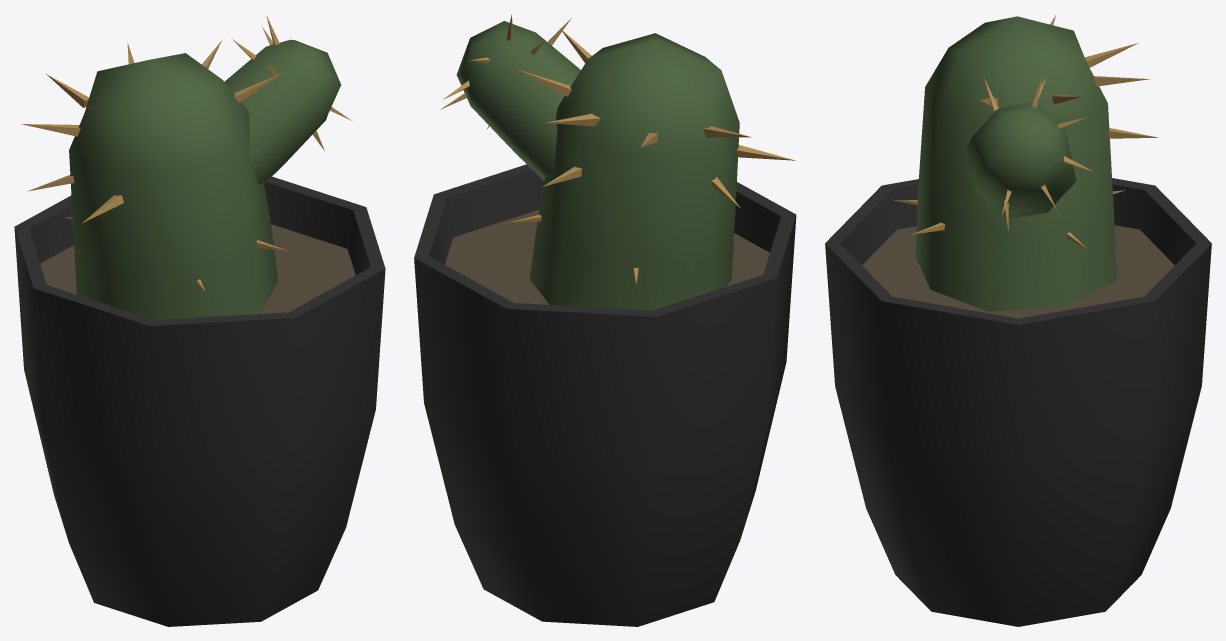
File: interior_prop.plant_pot.home_houseplant_2_01.glb
3 views of the same model, side by side, from view 1: azimuth 30°, elevation 25°; view 2: azimuth 150°, elevation 25°; view 3: azimuth 270°, elevation 25° (orthographic). The views are drawn at different scales.
Visible parts, largest first — view 1: Black, DarkGreen, Brown, LightOrange; view 2: Black, DarkGreen, Brown, LightOrange; view 3: Black, DarkGreen, Brown, LightOrange.
Part boxes in pixels (x1=…): Black: x1=14, y1=176, x2=385, y2=626; DarkGreen: x1=69, y1=39, x2=340, y2=319; Brown: x1=40, y1=224, x2=355, y2=314; LightOrange: x1=21, y1=15, x2=351, y2=291; Black: x1=414, y1=164, x2=796, y2=626; DarkGreen: x1=456, y1=21, x2=739, y2=310; Brown: x1=445, y1=210, x2=769, y2=304; LightOrange: x1=440, y1=14, x2=795, y2=284; Black: x1=825, y1=178, x2=1211, y2=626; DarkGreen: x1=915, y1=16, x2=1116, y2=311; Brown: x1=862, y1=225, x2=1174, y2=318; LightOrange: x1=893, y1=14, x2=1157, y2=248.
Size of the model in its own units: 0.2506 by 0.3849 by 0.2506.
